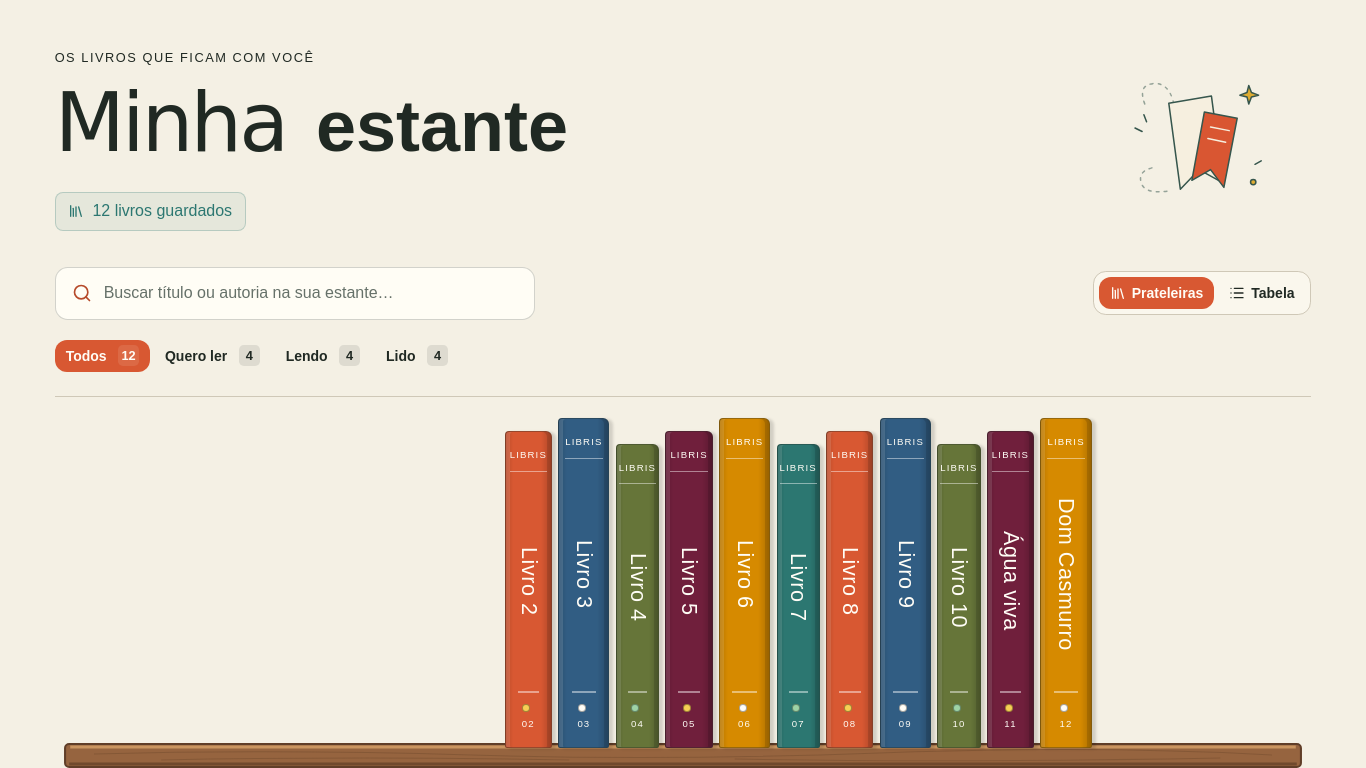
it: ordenação na tabela da estante › ordena a coleção antes de paginar, volta à primeira página e alterna por teclado
Click the button "Tabela" at (1262, 293), box [1218, 277, 1306, 309]
(page scrolled)
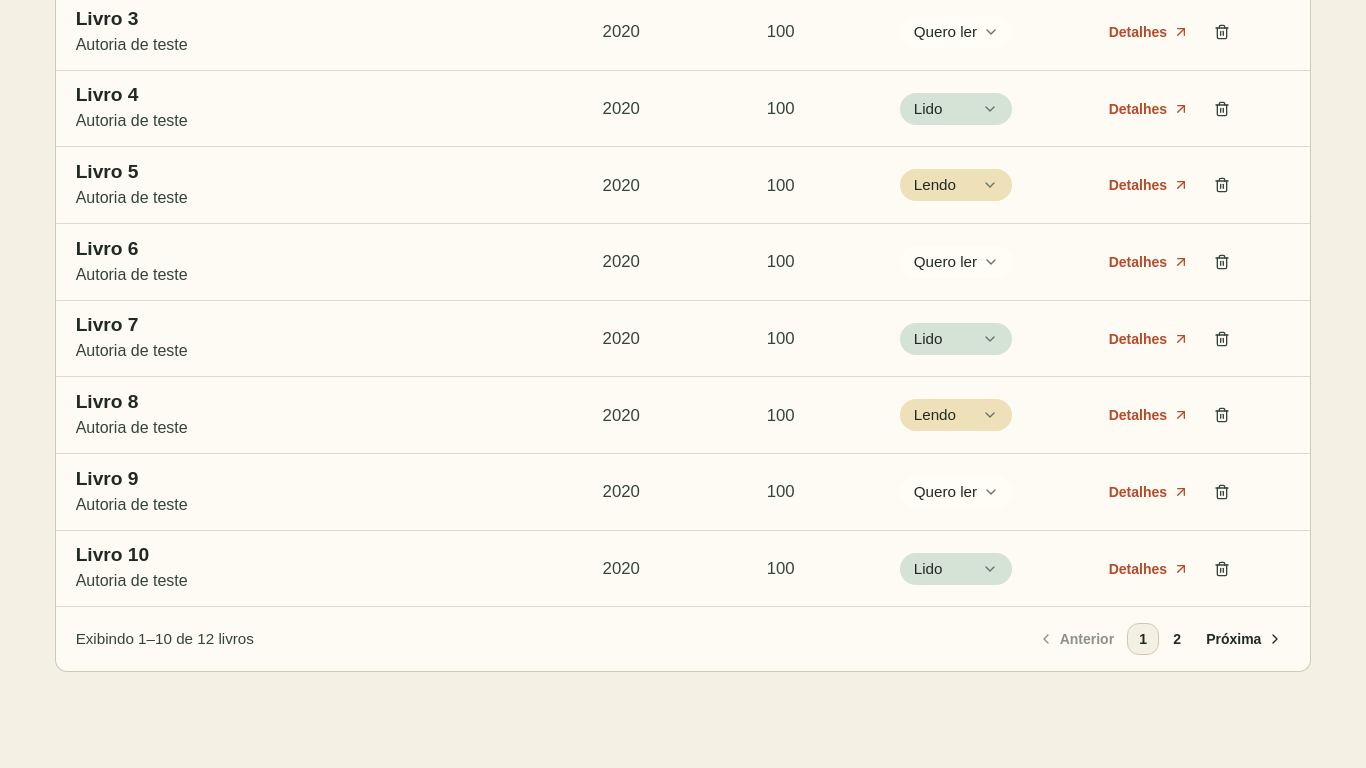
Click the button with aria-label "Próxima página" at (1243, 639), box [1195, 623, 1290, 655]
(page scrolled)
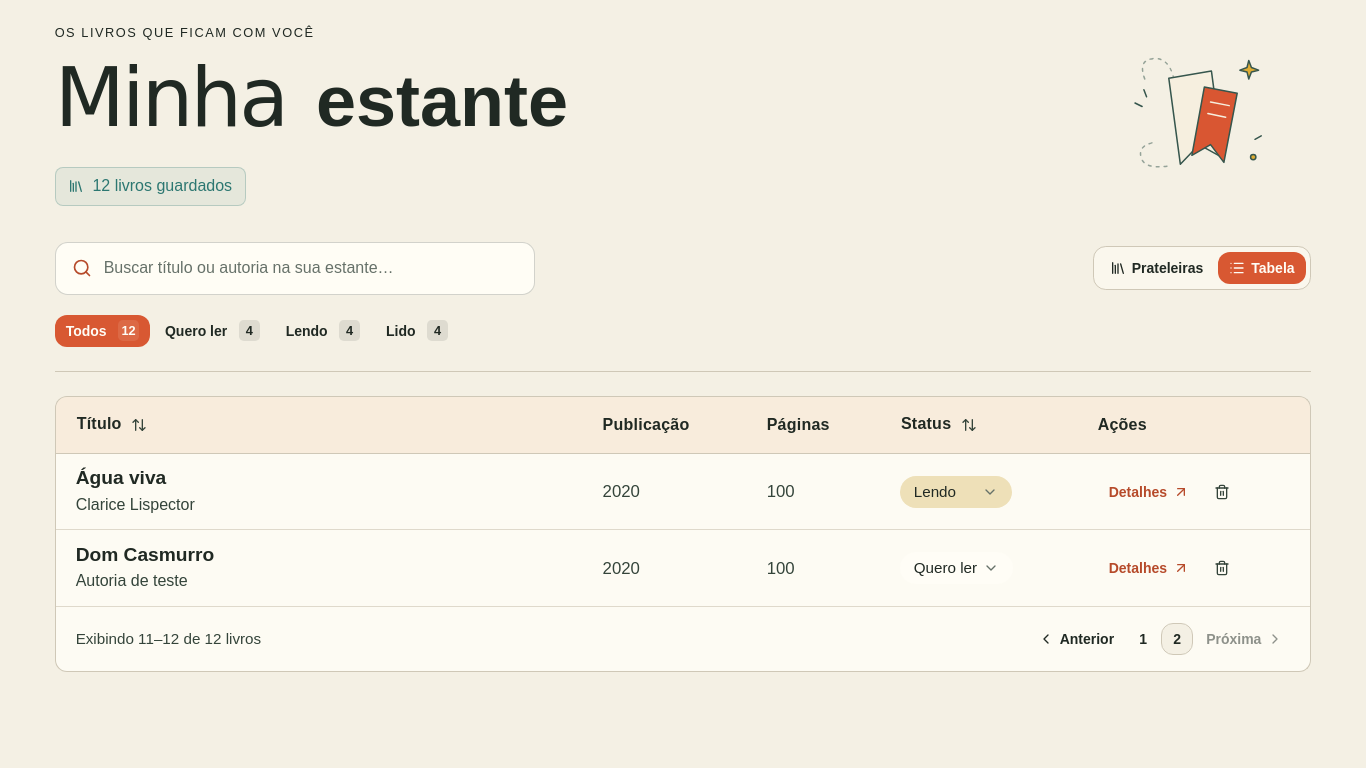
Click the button with aria-label "Ordenar por título: A a Z" at (112, 425), box [68, 403, 156, 447]
(page scrolled)
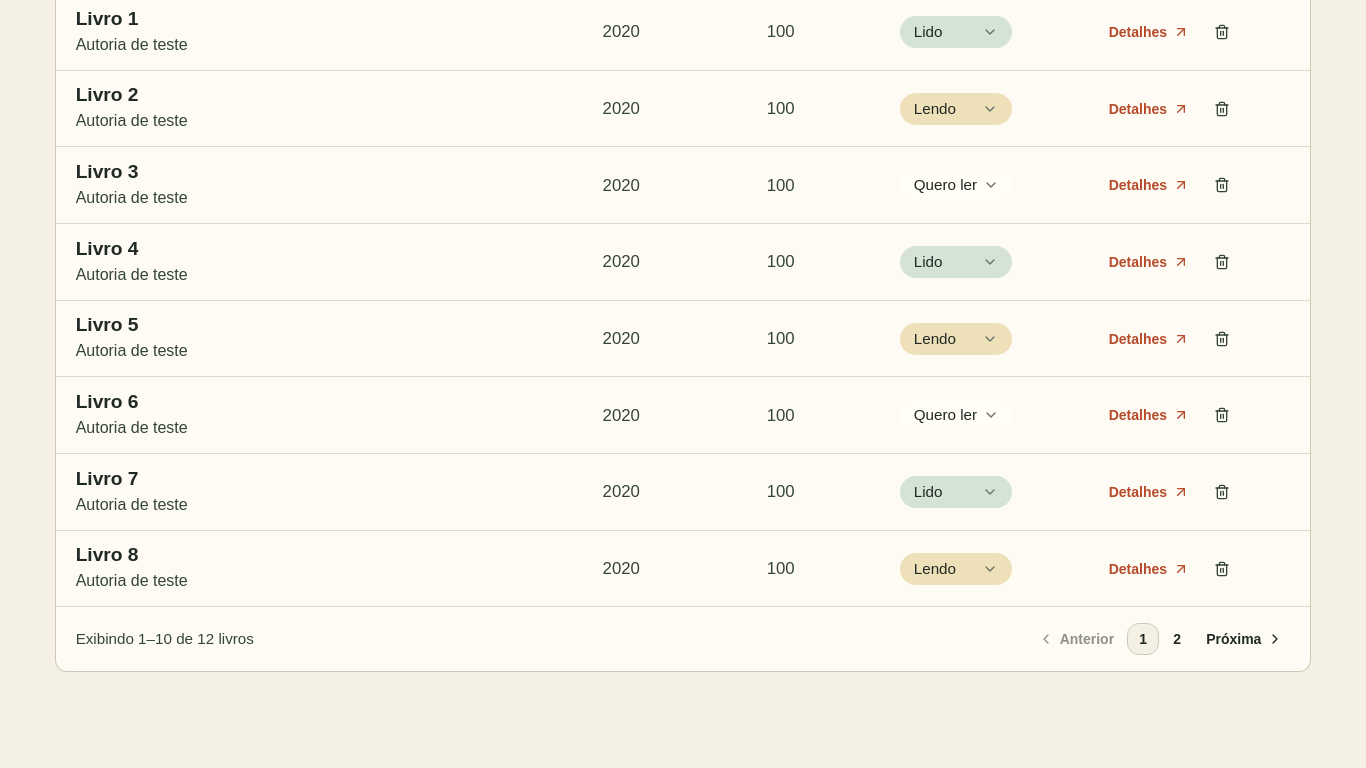
expect the text "Exibindo 1–10 de 12 livros" is shown: met, box [76, 628, 254, 651]
Click the button with aria-label "Próxima página" at (1243, 639), box [1195, 623, 1290, 655]
(page scrolled)
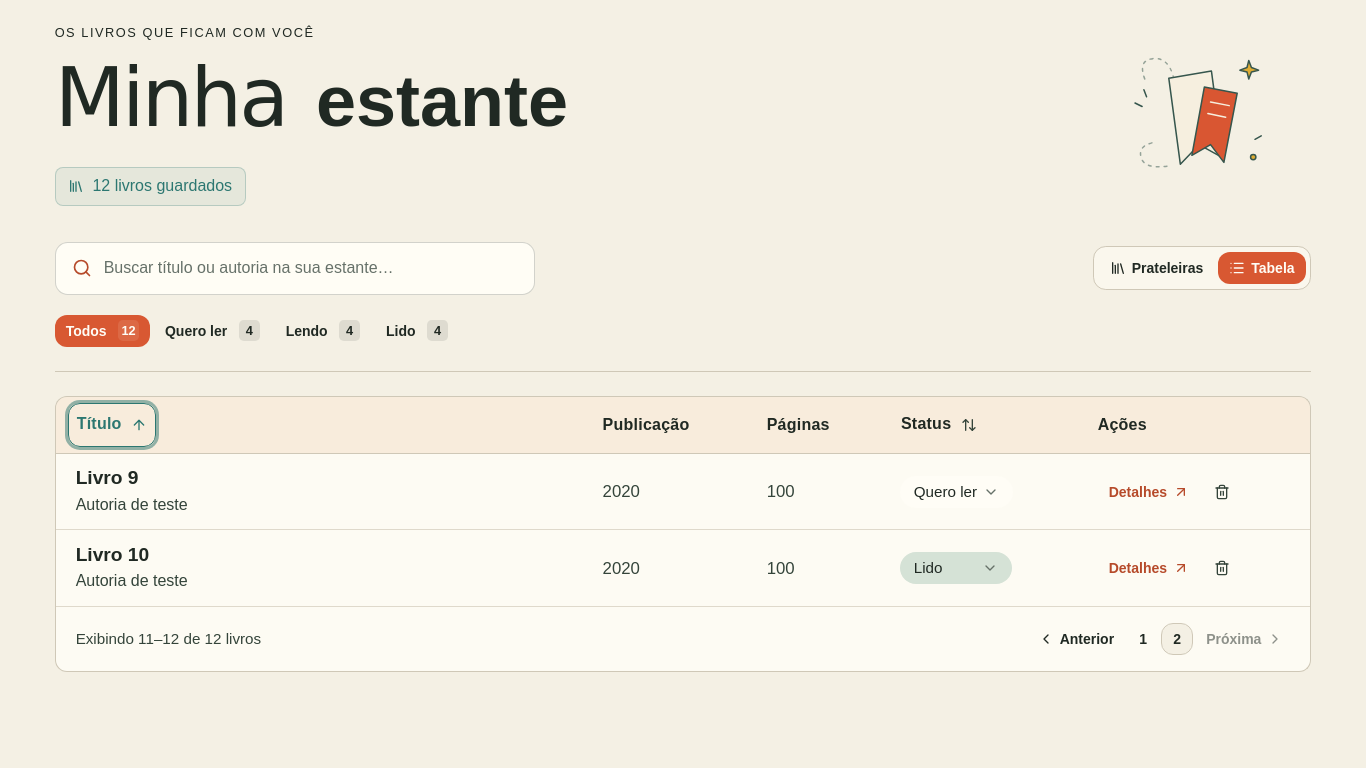
Press Enter
(page scrolled)
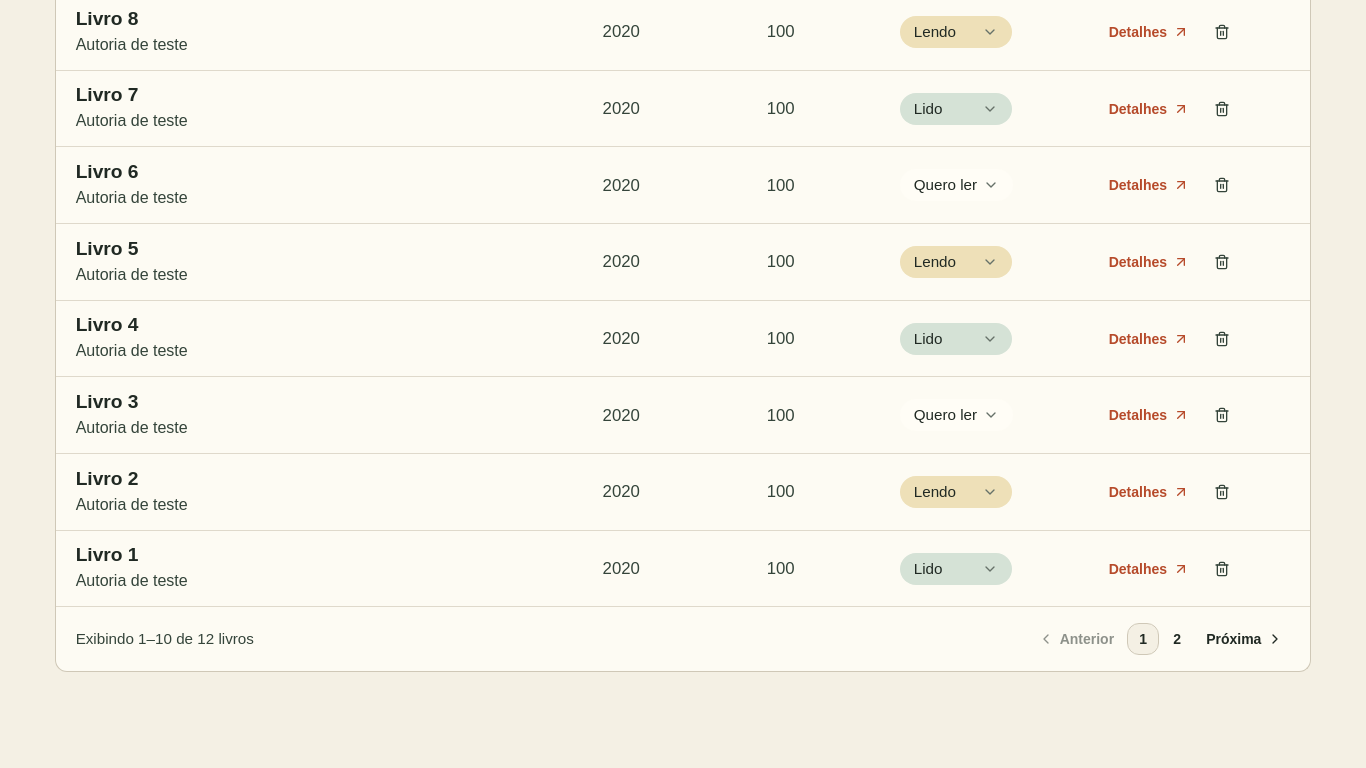
expect the button with aria-label "Página anterior" is disabled: met, box [1031, 623, 1125, 655]
